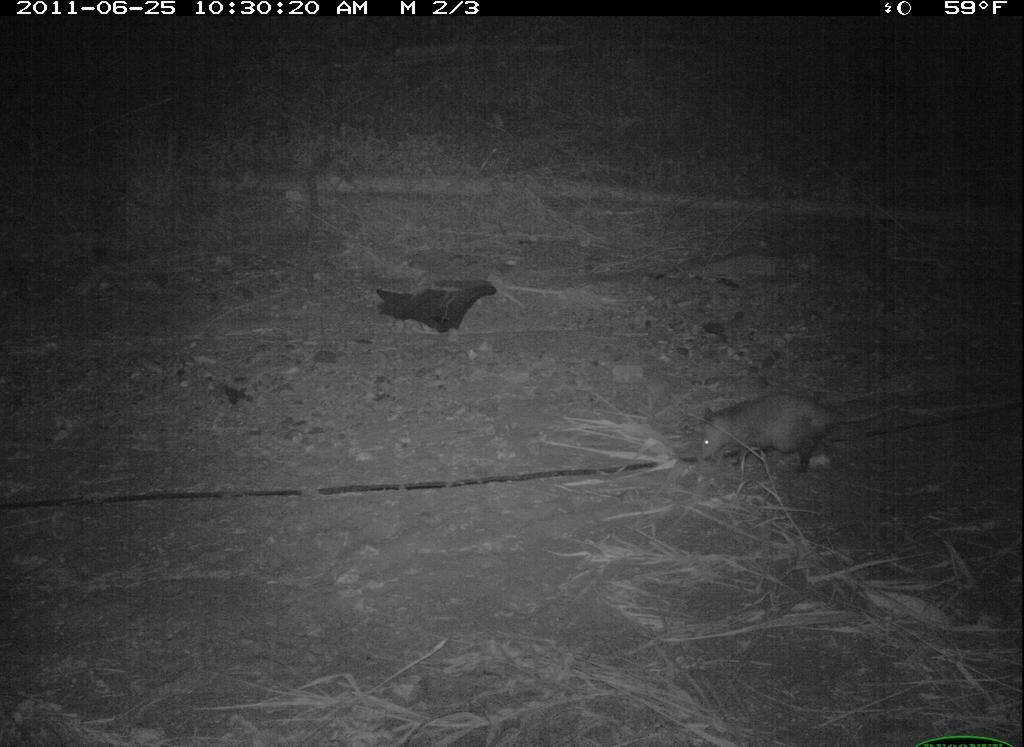opossum: (687, 393, 914, 481)
